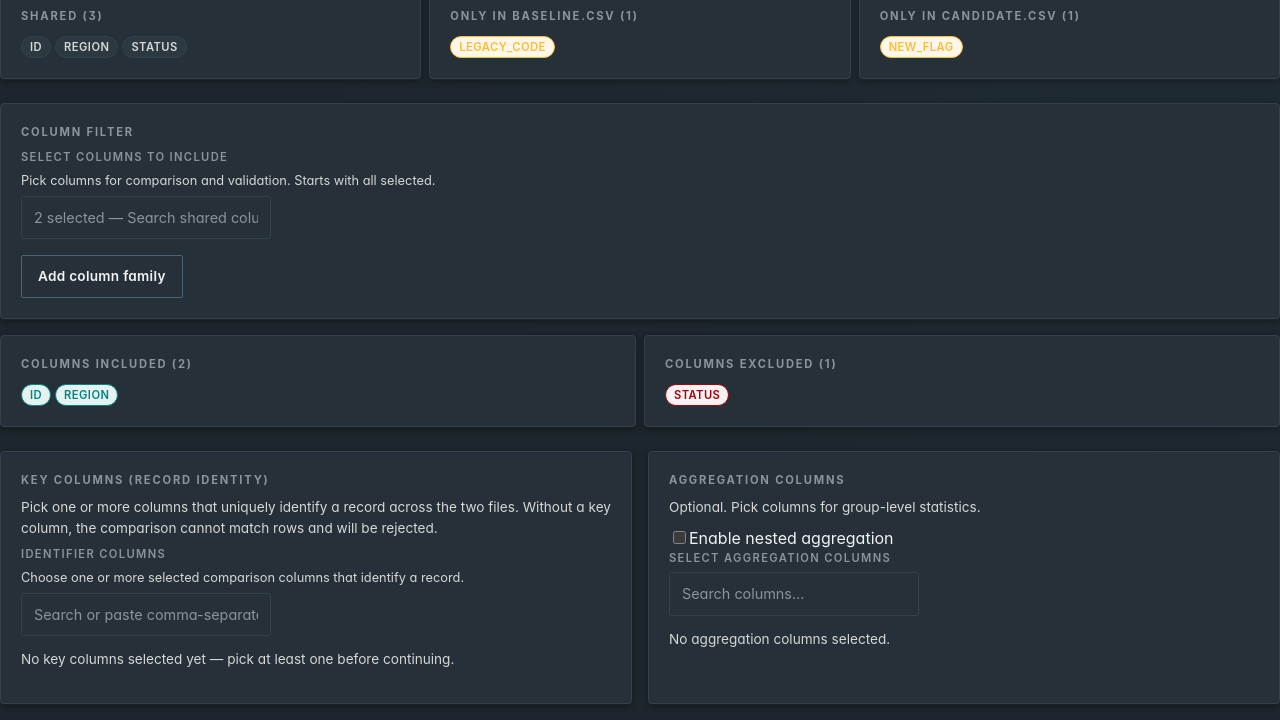
Test: HeaderReview › only lists columns selected in COLUMN FILTER in the Aggregation Columns dropdown
(page scrolled)
Focus the search field labelled "Select aggregation columns" at (794, 594), box [669,572,919,616]
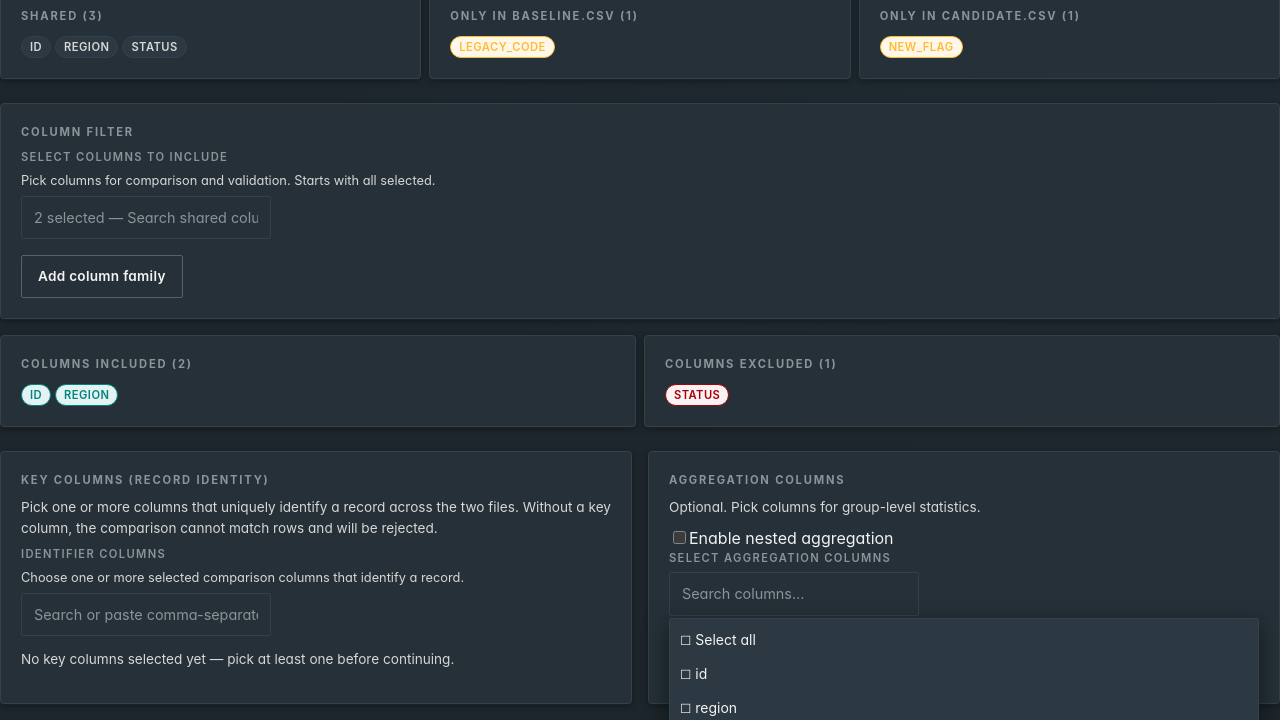
Expected: the option "☐region" is shown, [680,699,737,716]
Expected: the option "☐id" is shown, [680,665,707,682]
